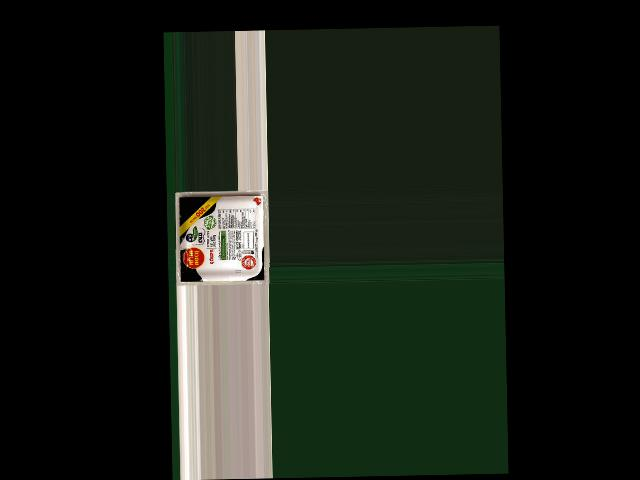cheese: (181, 190, 262, 282)
